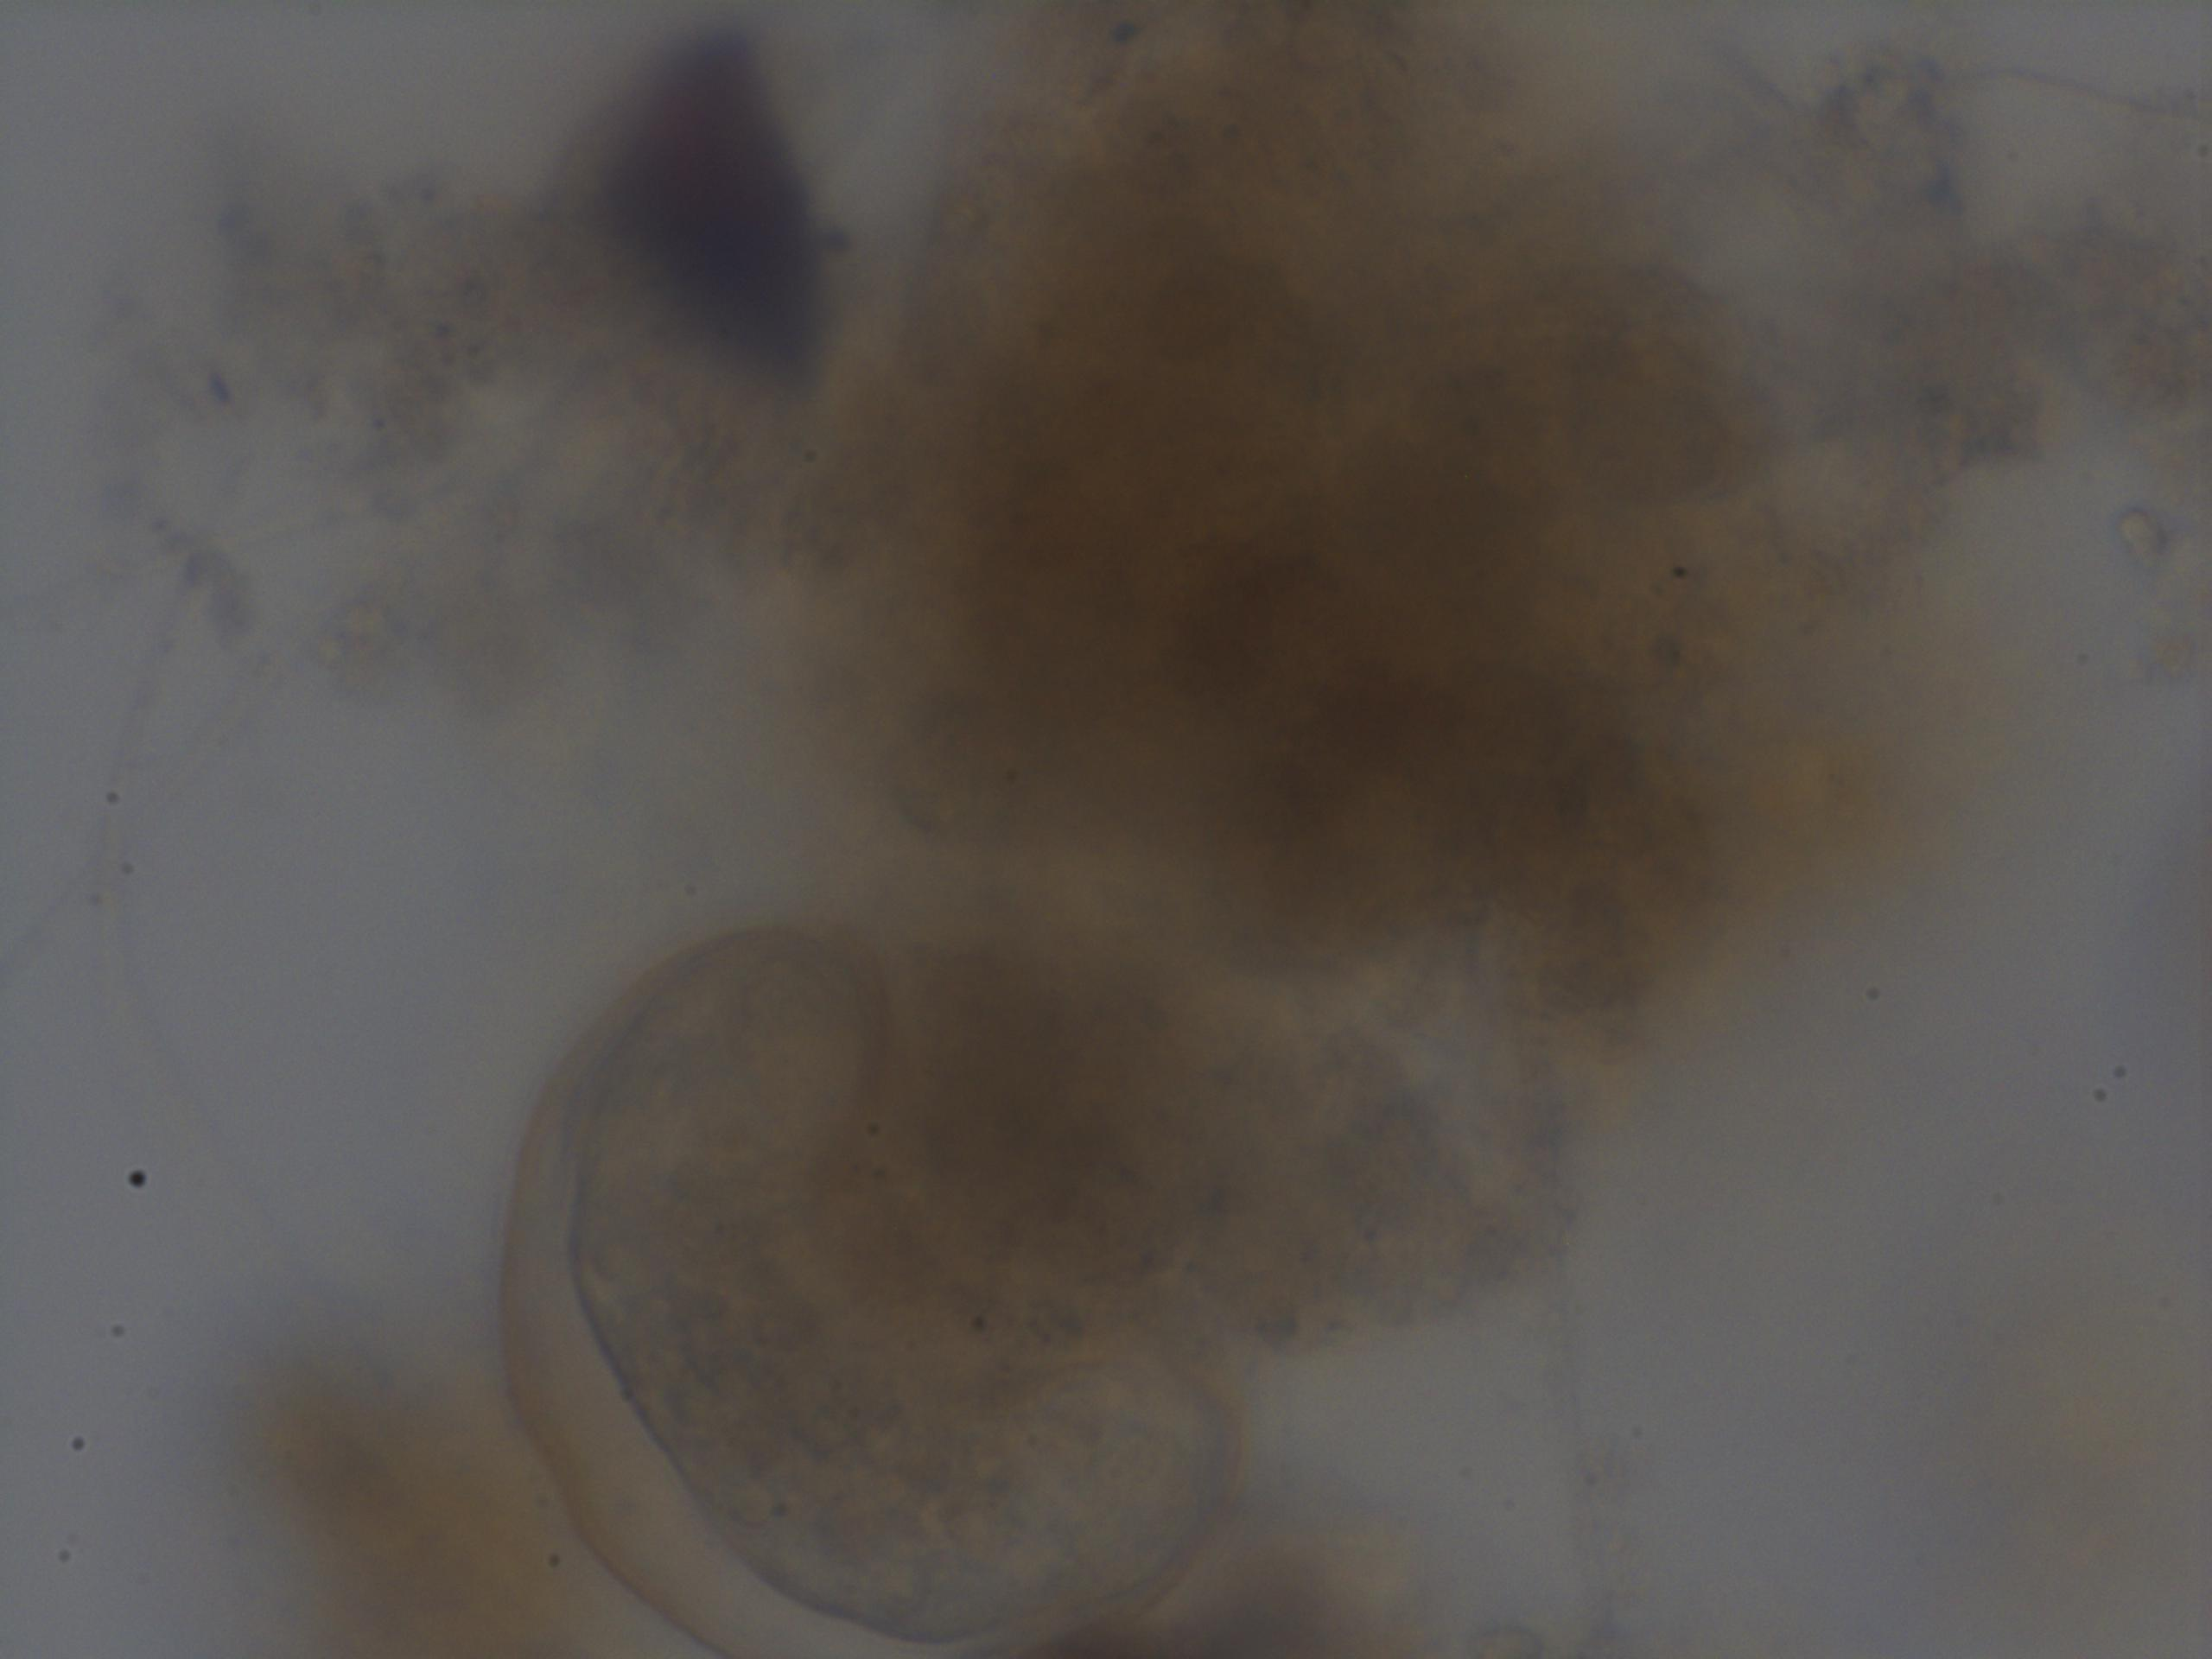filament: (0, 458, 423, 1302), (1524, 1053, 1662, 1650)
protozoa: (488, 913, 1284, 1659)
spherical_floc: (798, 0, 1911, 1105)
